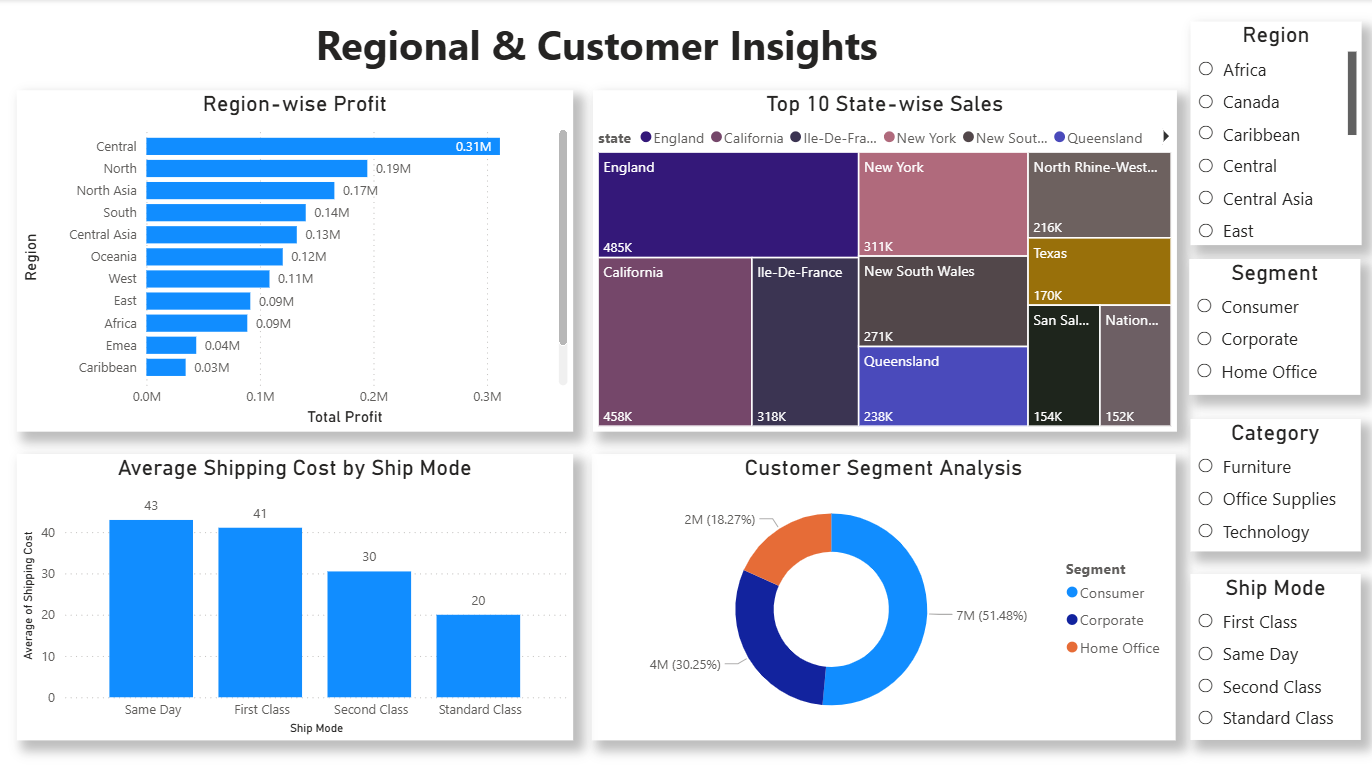

The page's visual inventory and layout, read from the dashboard file:
{"tool":"powerbi","page":{"name":"Regional & Customer Insights","canvas":[1280,720],"ordinal":2},"visuals":[{"type":"barChart","title":"Region-wise Profit","fields":{"Category":["final_cleaned_superstore_sql_clean.region"],"Y":["Sum(final_cleaned_superstore_sql_clean.profit)"]},"box":[17.4,84.9,517.4,317.4],"z":0},{"type":"donutChart","title":"Customer Segment Analysis","fields":{"Category":["final_cleaned_superstore_sql_clean.segment"],"Y":["Sum(final_cleaned_superstore_sql_clean.sales)"]},"box":[552.3,423.3,543,266.3],"z":1000},{"type":"columnChart","title":"Average Shipping Cost by Ship Mode","fields":{"Category":["final_cleaned_superstore_sql_clean.ship_mode"],"Y":["Avg(final_cleaned_superstore_sql_clean.shipping_cost)"]},"box":[17.4,423.3,517.4,266.3],"z":2000},{"type":"treemap","title":"Top 10 State-wise Sales","fields":{"Group":["final_cleaned_superstore_sql_clean.state"],"Values":["Sum(final_cleaned_superstore_sql_clean.sales)"]},"box":[553.5,84.9,543,317.4],"z":3000},{"type":"listSlicer","fields":{"Values":["final_cleaned_superstore_sql_clean.region"]},"box":[1109.3,20.9,159.3,208.1],"z":3001},{"type":"listSlicer","fields":{"Values":["final_cleaned_superstore_sql_clean.segment"]},"box":[1108.1,241.9,159.3,126.7],"z":3002},{"type":"listSlicer","fields":{"Values":["final_cleaned_superstore_sql_clean.category"]},"box":[1109.3,390.7,158.1,123.3],"z":3003},{"type":"listSlicer","fields":{"Values":["final_cleaned_superstore_sql_clean.ship_mode"]},"box":[1109.3,534.9,158.1,154.7],"z":3004},{"type":"textbox","box":[17.4,11.6,1079.1,62.8],"z":3005}]}

Visuals, with their boxes in screenshot pixels (x1, y1, x2, y2), scaled from the page's 1280x720 canvas onto the 1372x768 screenshot:
"Region-wise Profit" barChart: 19, 91, 573, 429
"Customer Segment Analysis" donutChart: 592, 452, 1174, 736
"Average Shipping Cost by Ship Mode" columnChart: 19, 452, 573, 736
"Top 10 State-wise Sales" treemap: 593, 91, 1175, 429
listSlicer - final_cleaned_superstore_sql_clean.region: 1189, 22, 1360, 244
listSlicer - final_cleaned_superstore_sql_clean.segment: 1188, 258, 1358, 393
listSlicer - final_cleaned_superstore_sql_clean.category: 1189, 417, 1358, 548
listSlicer - final_cleaned_superstore_sql_clean.ship_mode: 1189, 571, 1358, 736
textbox: 19, 12, 1175, 79
